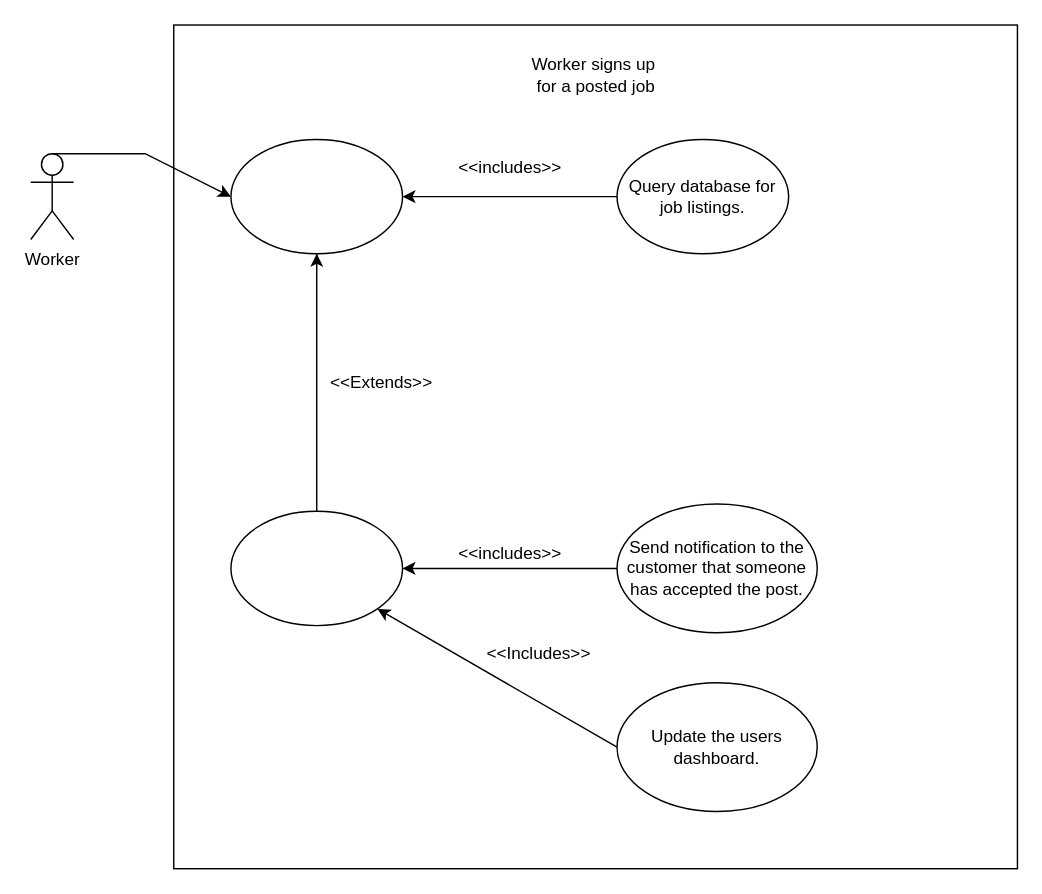
This 1042x894 diagram has some shape labels left out. Each missing label, with the centre of its shape:
"Accepts post. Signing up for that job." belongs at pixel 316 568.
"Views listing of all posted nearby jobs." belongs at pixel 316 196.
